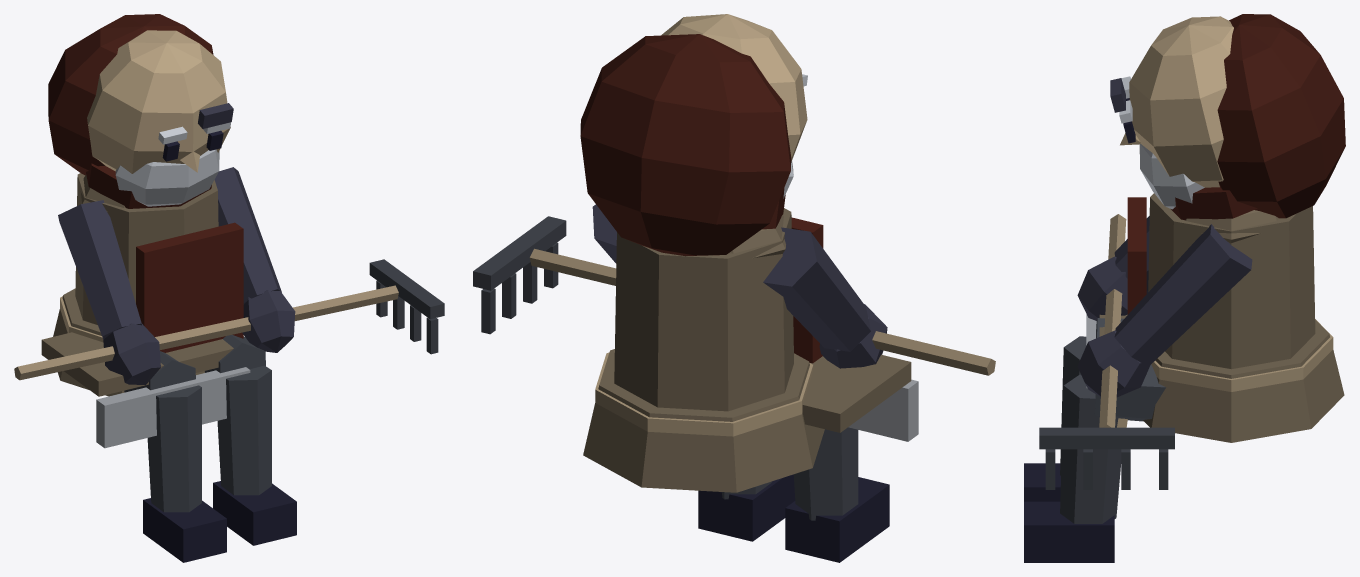
File: hob_seated.glb
3 views of the same model, side by side, from view 1: azimuth 30°, elevation 25°; view 2: azimuth 150°, elevation 25°; view 3: azimuth 270°, elevation 25° (orthographic). The views are drawn at different scales.
Parts seen in each view (by area): view 1: Head, LegL, Torso, LegR, ArmR, Stool, ArmL; view 2: Torso, Head, LegL, LegR, ArmR, Stool, ArmL; view 3: Head, Torso, LegL, ArmL, Stool, ArmR, LegR.
Boxes of the visible parts, x1,y1,x2,y2 form: Head: (48, 14, 233, 208); LegL: (41, 332, 296, 545); Torso: (53, 173, 243, 396); LegR: (124, 351, 226, 562); ArmR: (58, 200, 160, 385); Stool: (14, 259, 444, 380); ArmL: (214, 167, 295, 352); Torso: (583, 208, 824, 492); Head: (580, 14, 807, 256); LegL: (698, 354, 918, 541); LegR: (785, 427, 889, 562); ArmR: (763, 227, 887, 368); Stool: (473, 216, 995, 375); ArmL: (592, 204, 616, 263); Head: (1110, 14, 1345, 220); Torso: (1117, 193, 1344, 442); LegL: (1024, 314, 1165, 562); ArmL: (1077, 224, 1252, 397); Stool: (1039, 214, 1174, 489); ArmR: (1077, 216, 1149, 320); LegR: (1024, 318, 1123, 501).
Size of the model in its own units: 1.35 by 1.48 by 0.8535.
